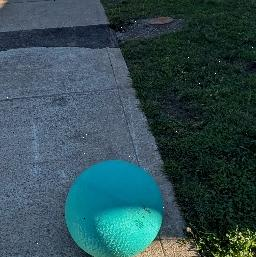algae: (65, 157, 166, 257)
